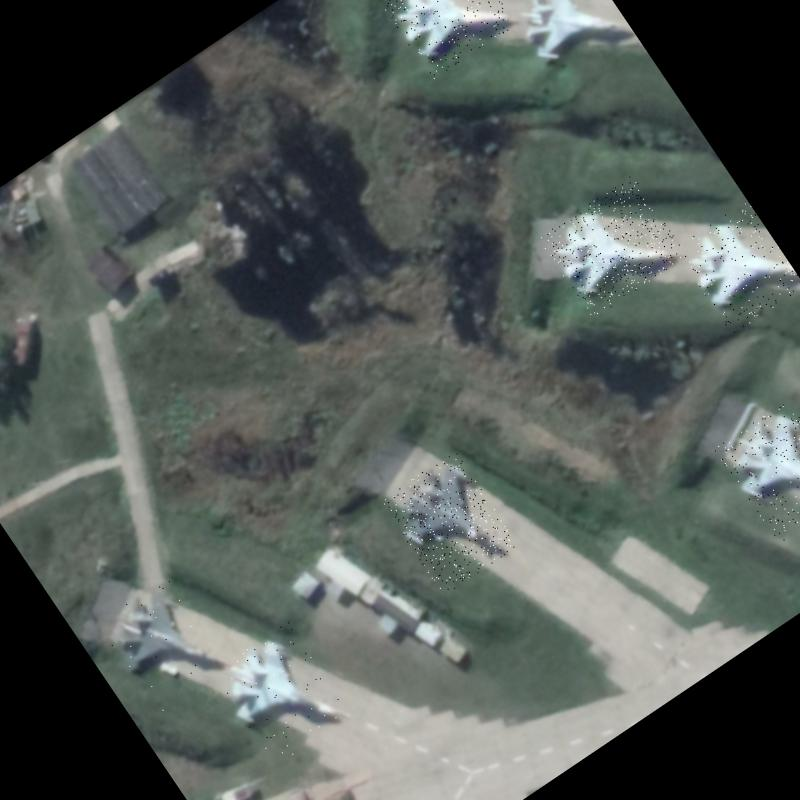A1: (538, 174, 687, 320), (208, 621, 353, 770), (380, 449, 520, 596), (94, 572, 232, 716), (674, 200, 800, 335), (714, 399, 800, 546), (502, 0, 638, 90), (381, 0, 523, 81)
